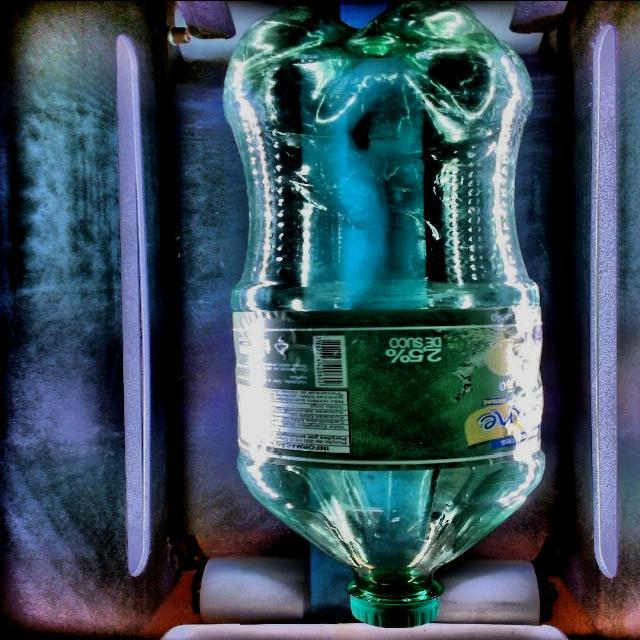bottom: (225, 1, 531, 286)
code: (313, 336, 347, 386)
label: (234, 306, 542, 469)
neck: (240, 453, 542, 627)
